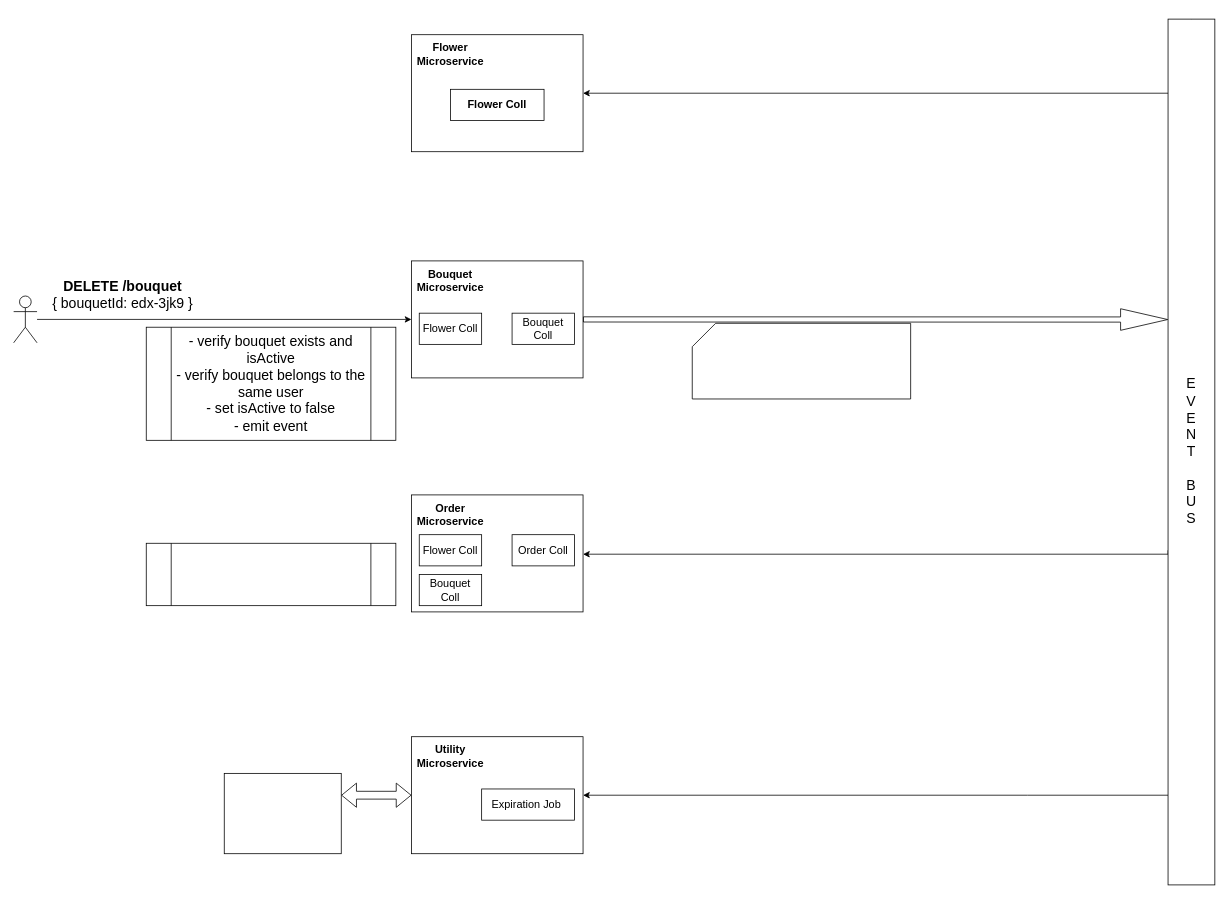
Some shapes in this 1229 by 899 pixel diagram are drawn without their labels. Each missing label, with the centre of its shape:
Actor: point (25, 319)
Redis in-mem: point (282, 813)
set the bouquet's isActive to false: point (270, 574)
subject: "bouquet:deleted", data: { bouquetId }: point (801, 361)
